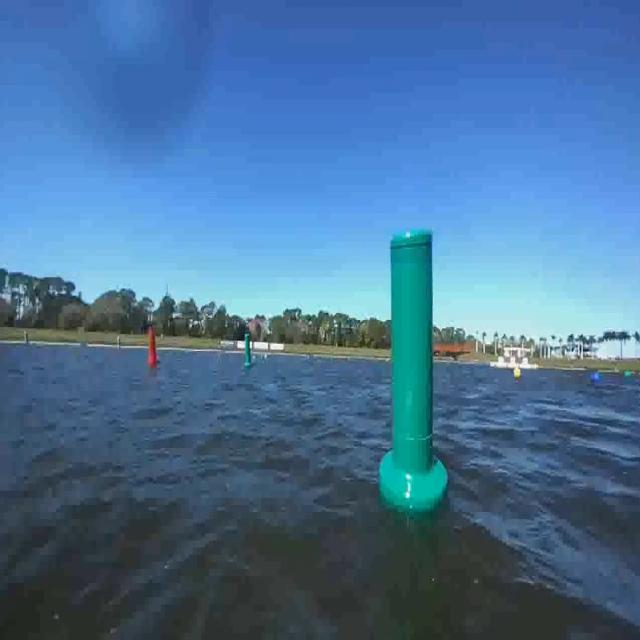blue-buoy: (589, 370, 600, 385)
green-buoy: (624, 369, 632, 378)
green-column-buoy: (379, 227, 448, 513), (241, 334, 252, 368)
red-column-buoy: (147, 328, 158, 366)
yellow-buoy: (514, 366, 522, 379)
